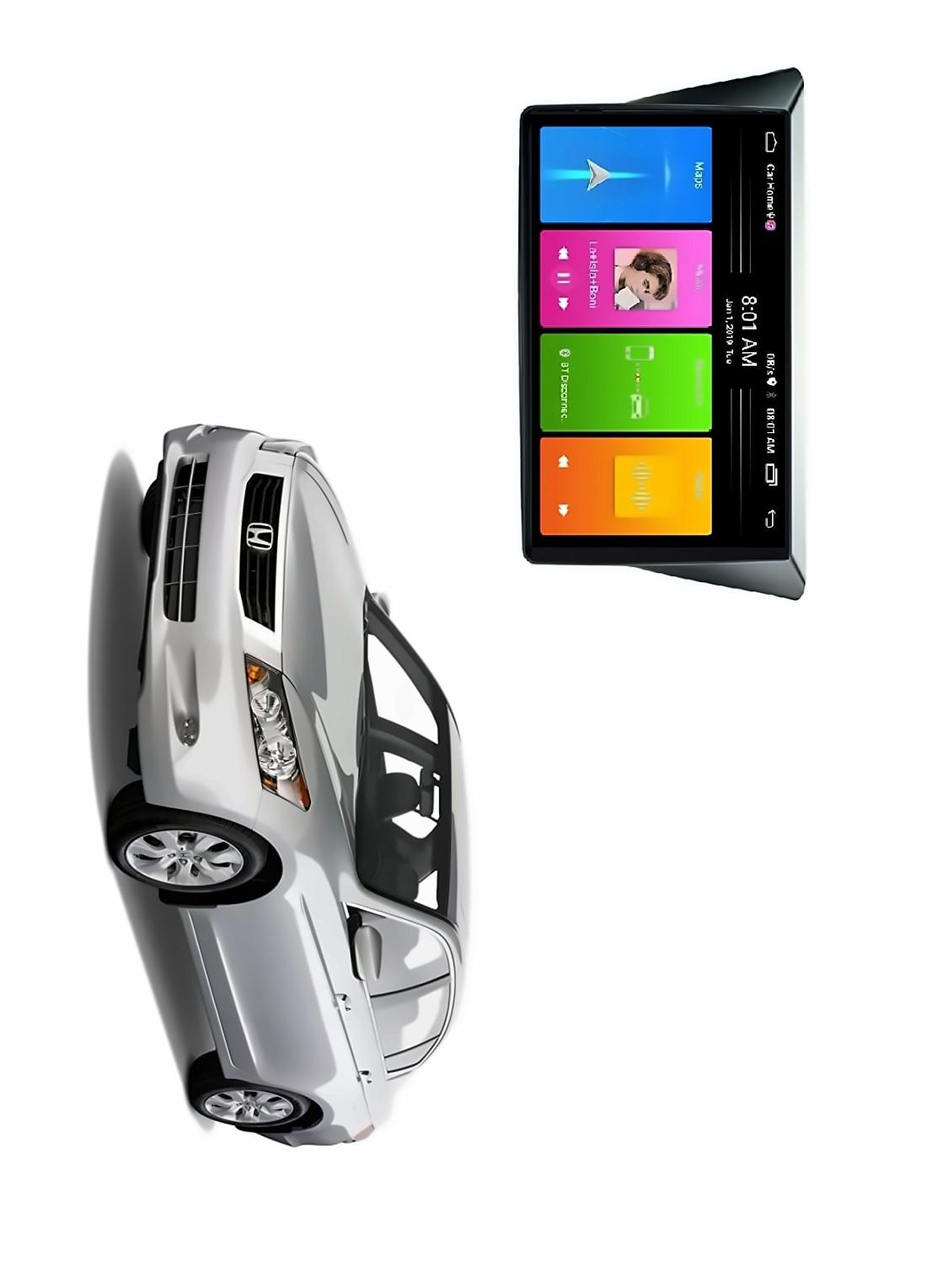Car hood: (277, 442, 382, 856)
Fender - -F-L-: (170, 669, 359, 909)
Fender - -R-L-: (213, 1074, 398, 1130)
Front bumper: (132, 408, 257, 828)
Headlight - -L-: (238, 646, 315, 813)
Headlight - -R-: (253, 428, 318, 472)
Passenger-s door - -F-L-: (184, 909, 477, 1020)
Passenger-s door - -R-L-: (221, 1005, 464, 1092)
Rear bumper: (245, 1111, 318, 1162)
Side bumper - -L-: (170, 902, 244, 1089)
Side mirror - -L-: (337, 917, 388, 991)
Side mirror - -R-: (365, 582, 407, 632)
